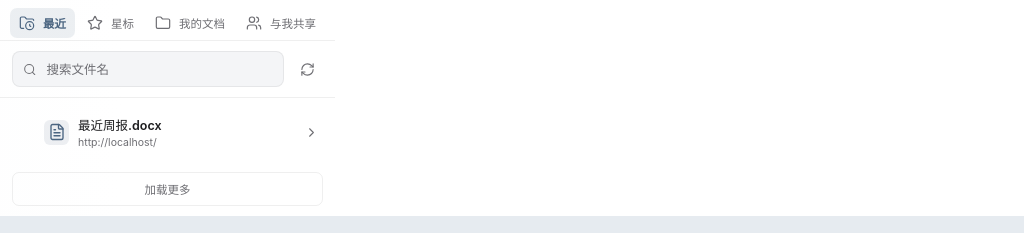
it: KDocs document browser › drops a stale pagination response after the view changes
Expected: the text "最近周报.docx" is shown, [78,118,162,133]
Click the button "加载更多" at (168,189), box [12,172,323,206]
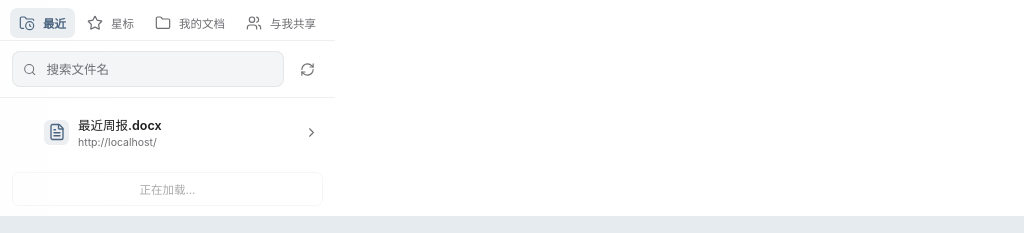
Click the button "我的文档" at (190,23), box [146,8,234,38]
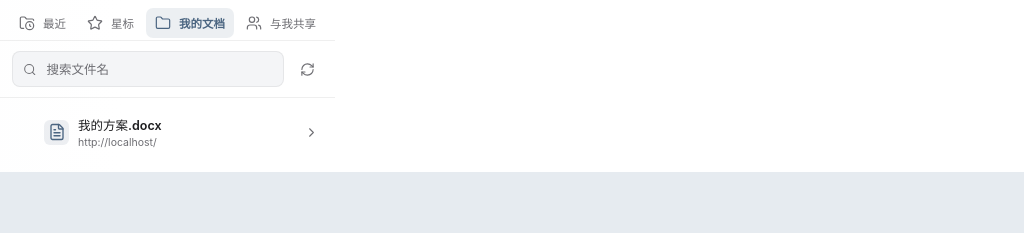
Result: the text "我的方案.docx" is shown at [78,118,162,133]
